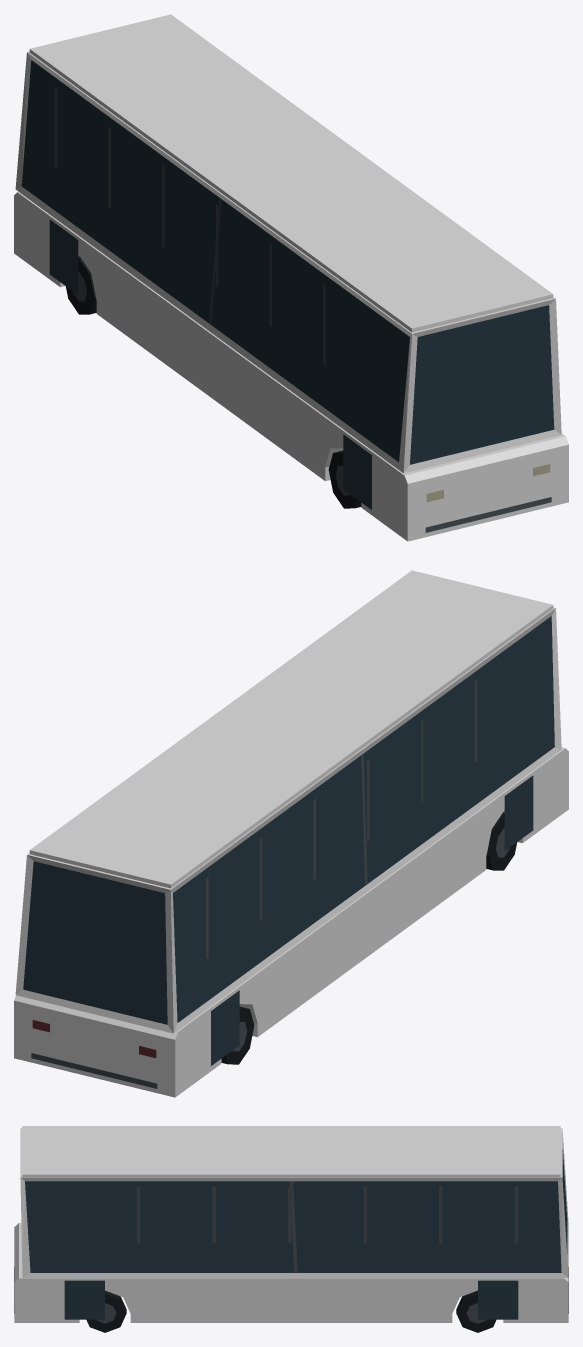
Rendered from startup-shuttle.glb.
3 views of the same model, one above another, from view 1: azimuth 30°, elevation 25°; view 2: azimuth 150°, elevation 25°; view 3: azimuth 270°, elevation 25° (orthographic). The views are drawn at different scales.
Parts seen in each view (by area): view 1: vehicle_body; view 2: vehicle_body; view 3: vehicle_body.
Boxes of the visible parts, <box> form: vehicle_body: <box>14,14,568,541</box>; vehicle_body: <box>14,570,568,1097</box>; vehicle_body: <box>14,1126,568,1332</box>.
Size of the model in its own units: 2.6 by 3.4 by 11.02.
